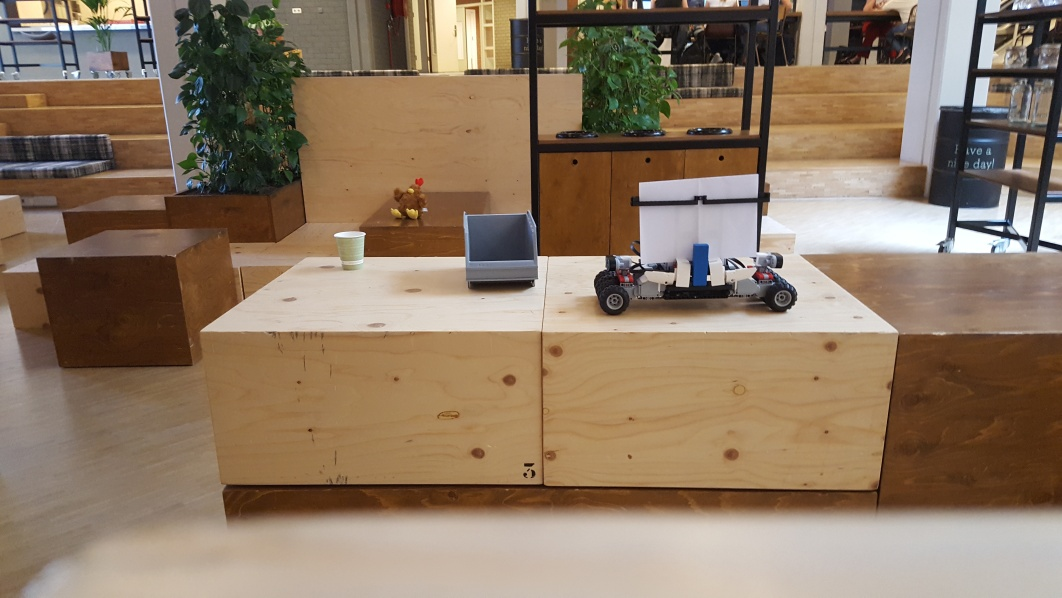beam: (692, 240, 709, 289)
chicken: (390, 176, 428, 219)
cup: (333, 229, 366, 272)
tray: (460, 210, 543, 288)
